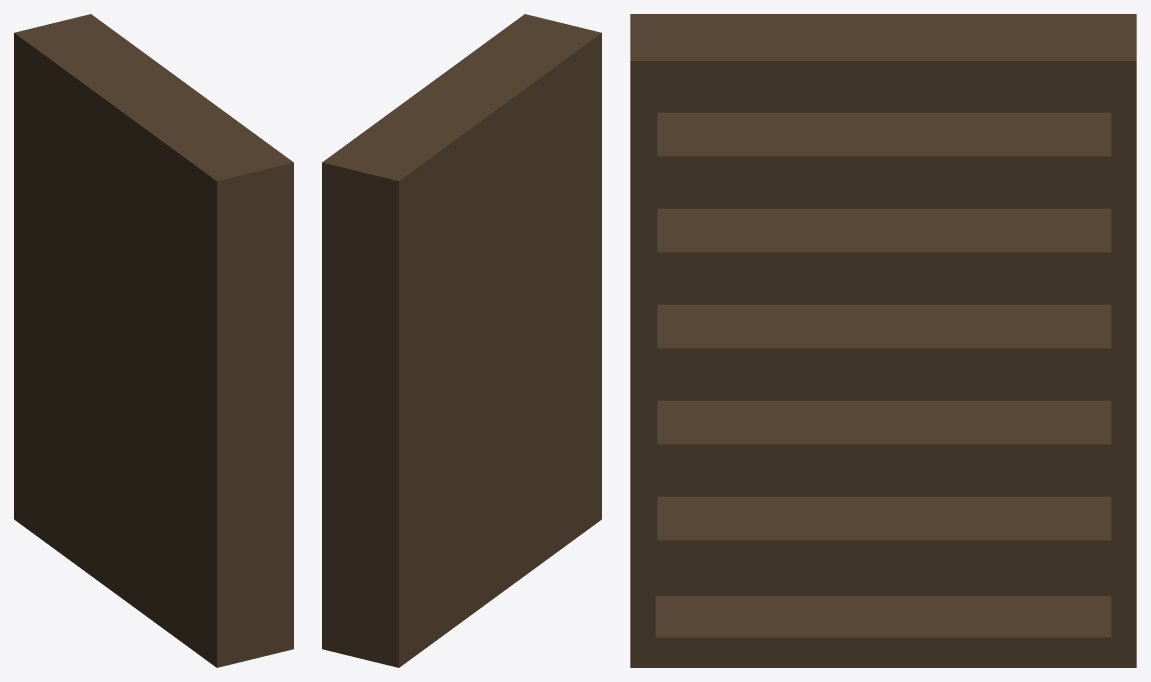
File: shelf.glb
3 renders of one model, left to right at view 1: azimuth 30°, elevation 25°; view 2: azimuth 150°, elevation 25°; view 3: azimuth 270°, elevation 25°, orthographic. The views are drawn at different scales.
Visible parts, largest first — view 1: PropBookshelf; view 2: PropBookshelf; view 3: PropBookshelf.
Part boxes in pixels (x1,y1,x2,y2): PropBookshelf: (14,14,293,667); PropBookshelf: (322,14,601,667); PropBookshelf: (630,14,1136,667).
Bounding box in the file's own units: 0.6412 × 3.87 × 2.93.
1 material, 1 textured.
